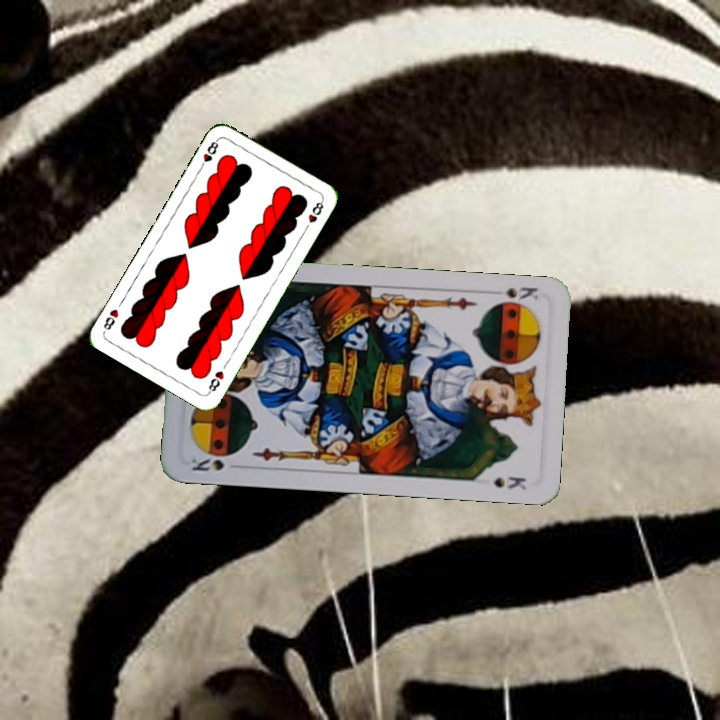H8: (196, 135, 221, 172), (204, 366, 226, 396)
SK: (488, 283, 541, 310), (187, 454, 227, 474)
